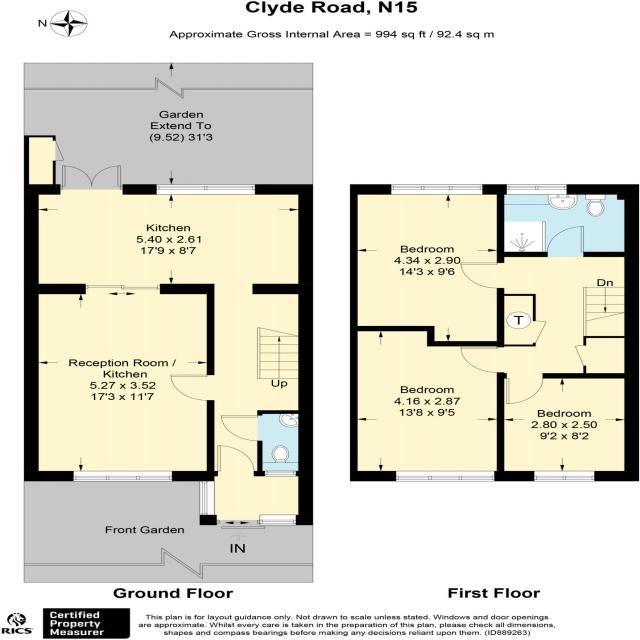DOOR: (460, 346, 507, 374), (169, 374, 216, 402), (504, 373, 544, 405), (216, 445, 256, 476), (460, 262, 505, 289), (546, 226, 585, 257), (221, 415, 263, 441)
DOUBLE DOOR: (58, 161, 126, 196)
ROOM: (24, 284, 215, 482), (23, 165, 314, 294), (350, 184, 505, 346), (350, 326, 505, 482), (496, 373, 640, 482)
SLIDING DOOR: (84, 283, 161, 294)
WINDOW: (395, 470, 496, 482), (72, 470, 173, 482), (155, 184, 256, 195), (390, 184, 484, 195), (533, 471, 596, 482), (506, 184, 568, 195), (199, 481, 215, 516), (264, 471, 297, 477)
